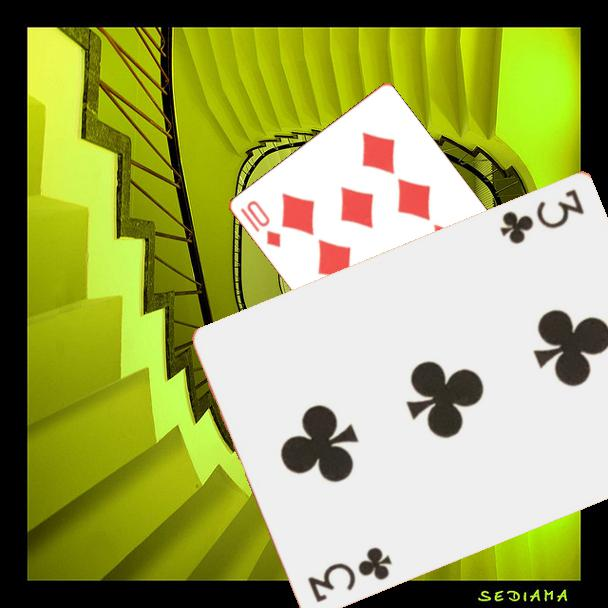c03: (496, 184, 588, 247), (304, 542, 396, 605)
d10: (236, 197, 283, 250)
